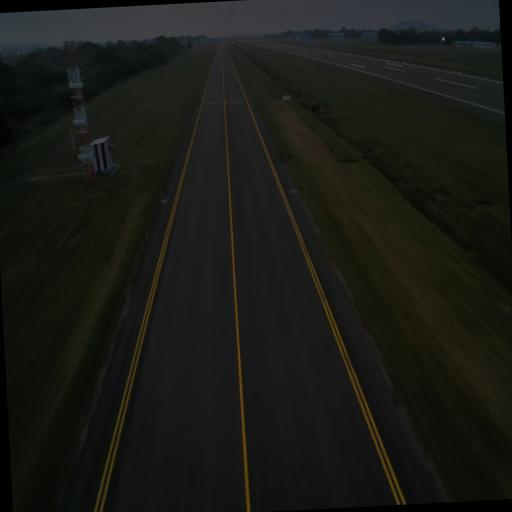on: (292, 186, 295, 192), (163, 196, 166, 202), (192, 115, 194, 119), (256, 111, 258, 114)
